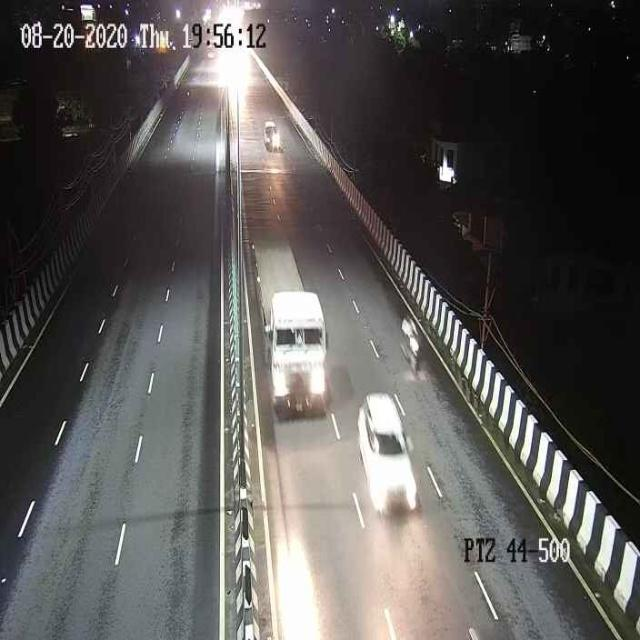car: (355, 388, 418, 513)
